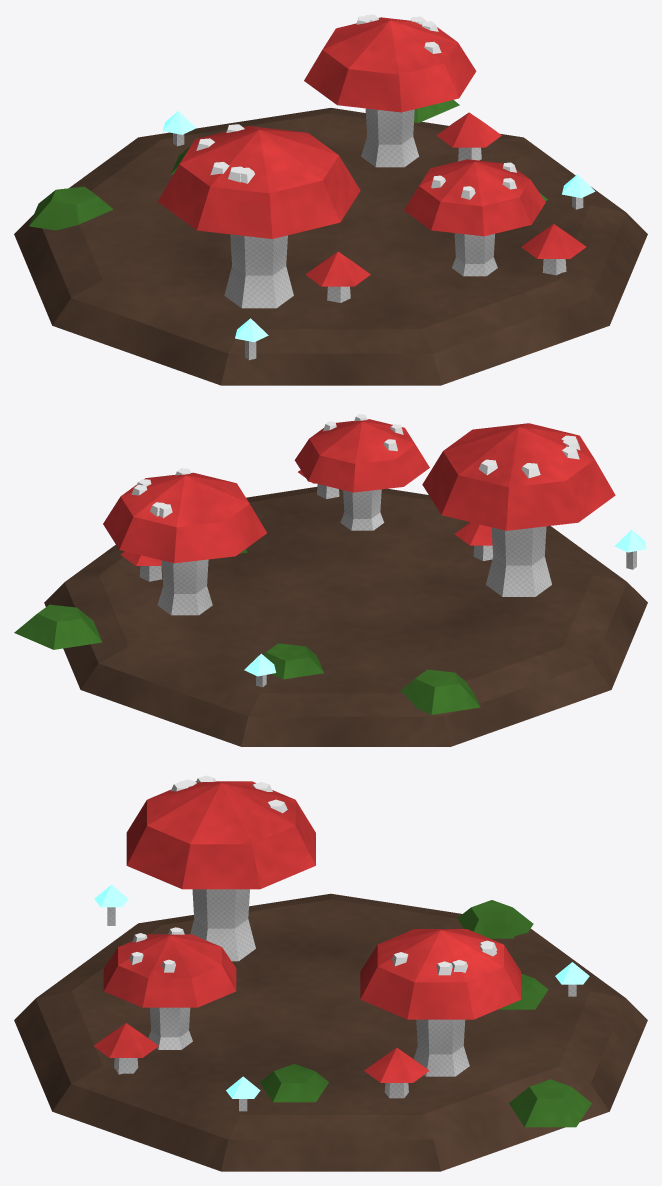
File: mushrooms_3.glb
The picture shows the model from 3 angles, top to bottom: view 1: azimuth 30°, elevation 25°; view 2: azimuth 150°, elevation 25°; view 3: azimuth 270°, elevation 25°; orthographic projection. The views are drawn at different scales.
Visible parts, largest first — view 1: base_mesh; view 2: base_mesh; view 3: base_mesh.
Part boxes in pixels (box(x1,y1,x2,y2)): base_mesh: box(14, 14, 647, 385); base_mesh: box(14, 414, 647, 746); base_mesh: box(14, 775, 647, 1171).
Size of the model in its own units: 0.8535 by 0.3 by 0.8666.
Materials: 6 (4 with a texture image).
